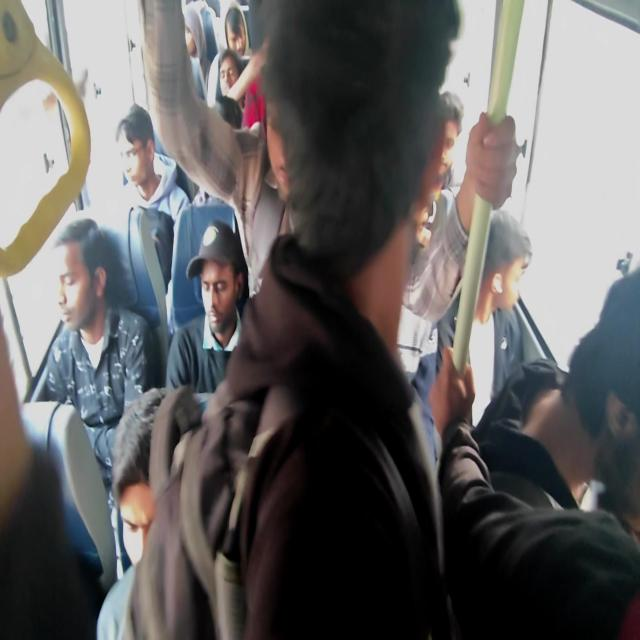person: (281, 31, 453, 336), (110, 423, 194, 585), (193, 237, 269, 366), (588, 288, 640, 462), (48, 232, 109, 354), (484, 218, 536, 327), (116, 123, 164, 208), (437, 86, 466, 182), (223, 12, 250, 70), (182, 14, 207, 70), (220, 62, 240, 120)
